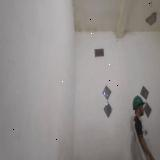Helmet: (133, 94, 146, 111)
